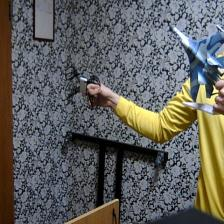drone: (62, 63, 105, 115)
